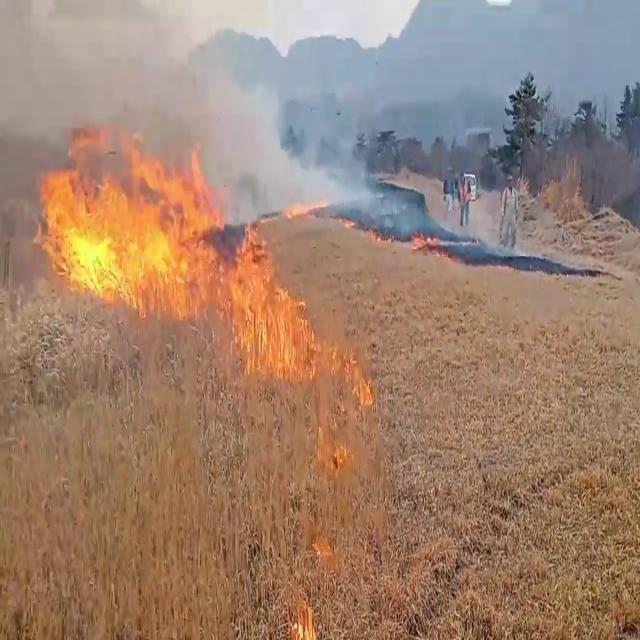Fire: (30, 127, 224, 309), (222, 216, 318, 386), (312, 324, 373, 467)
Smoke: (0, 0, 320, 226)
